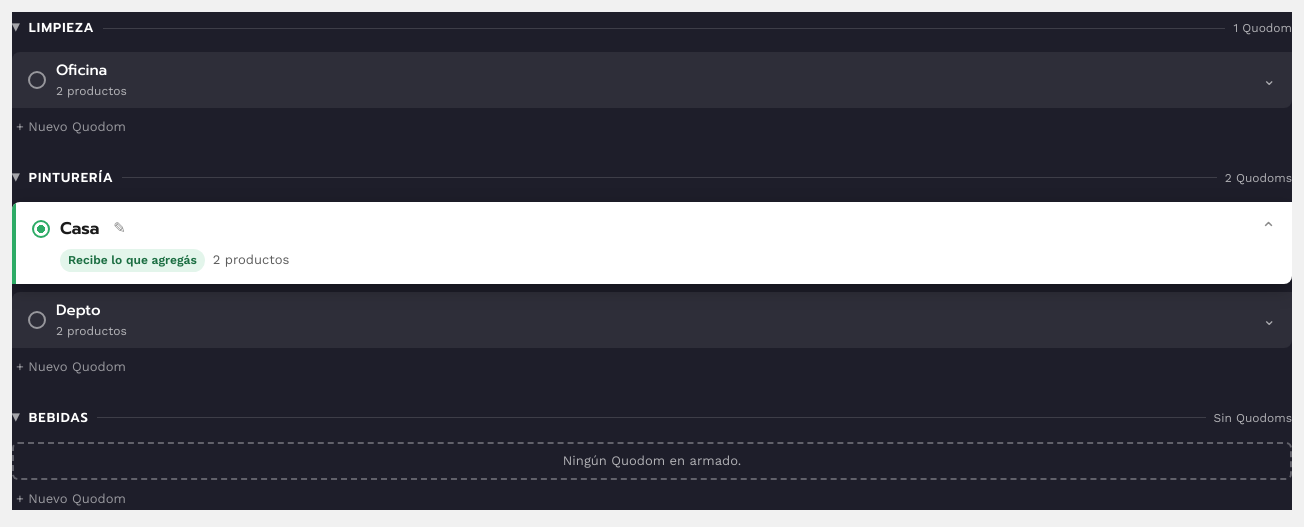
Test: ArbolQuodoms: renombrar desde el panel › Escape cancela sin guardar
The image size is (1304, 527).
Click the button named "Cambiar el nombre" at (120, 229), box [106,215,134,243]
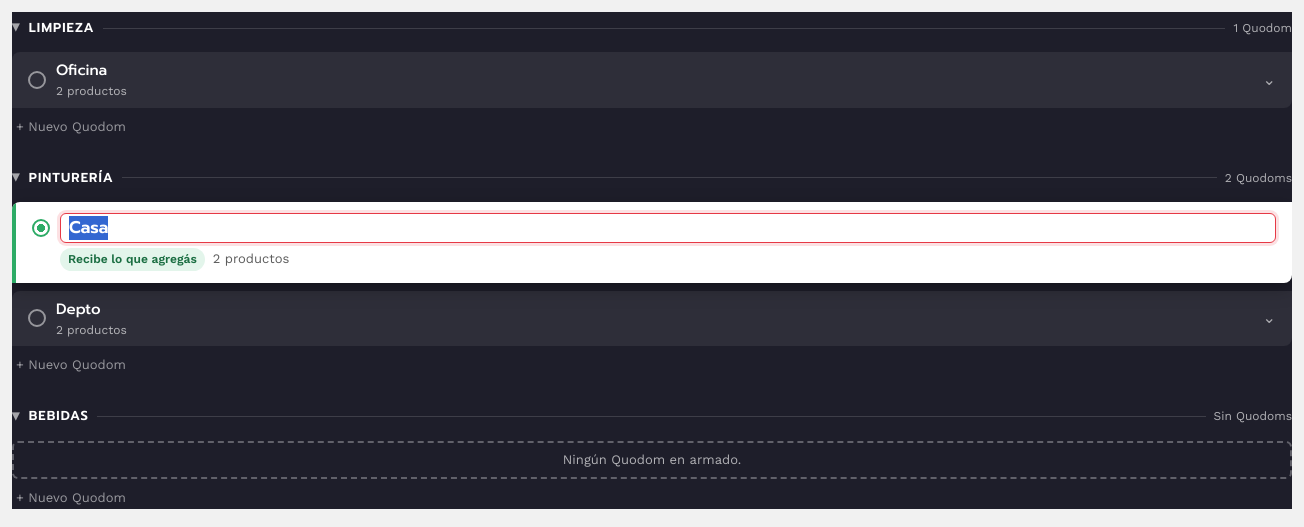
Replace the text in the field named "Nombre del Quodom" with "Otra cosa" at (668, 228), box [60,213,1276,243]
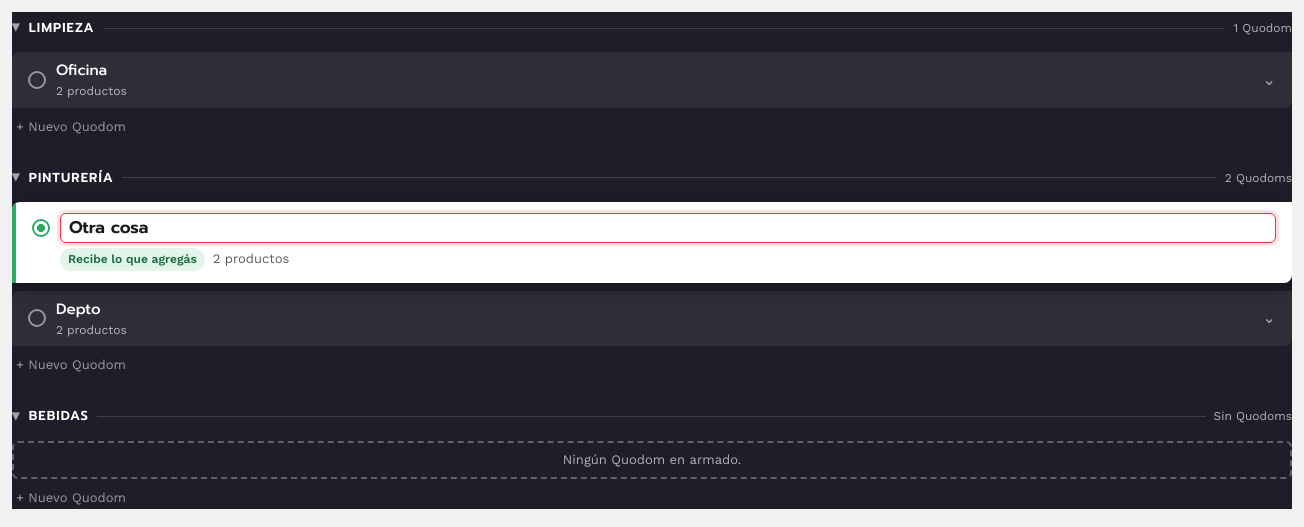
Press Escape in the field named "Nombre del Quodom", box [60,213,1276,243]
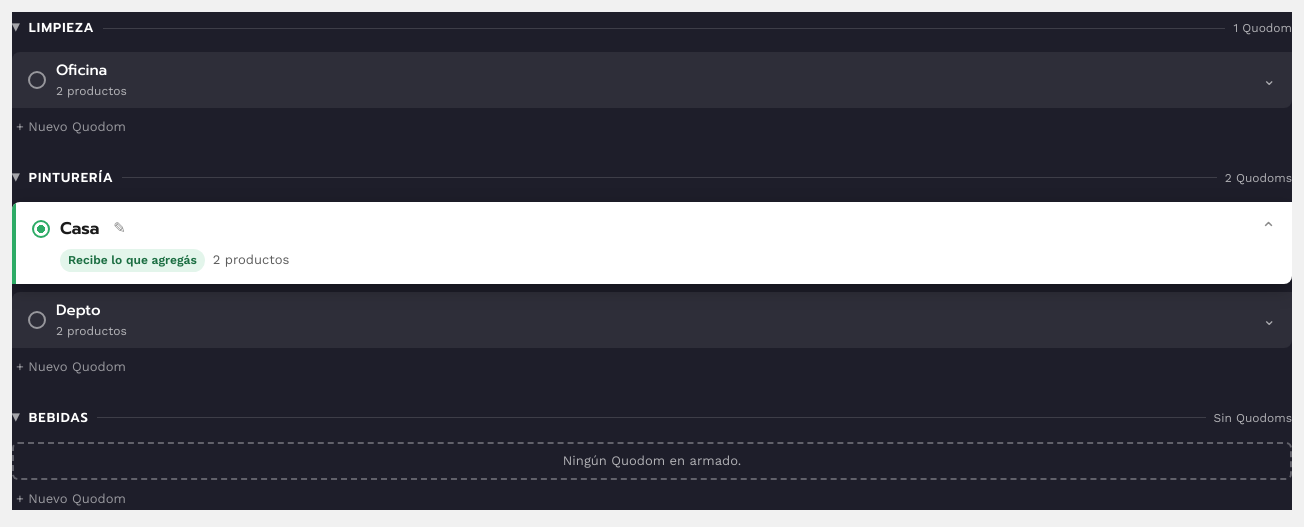
expect the button named "Casa" is shown: met, box [16,202,1292,284]
